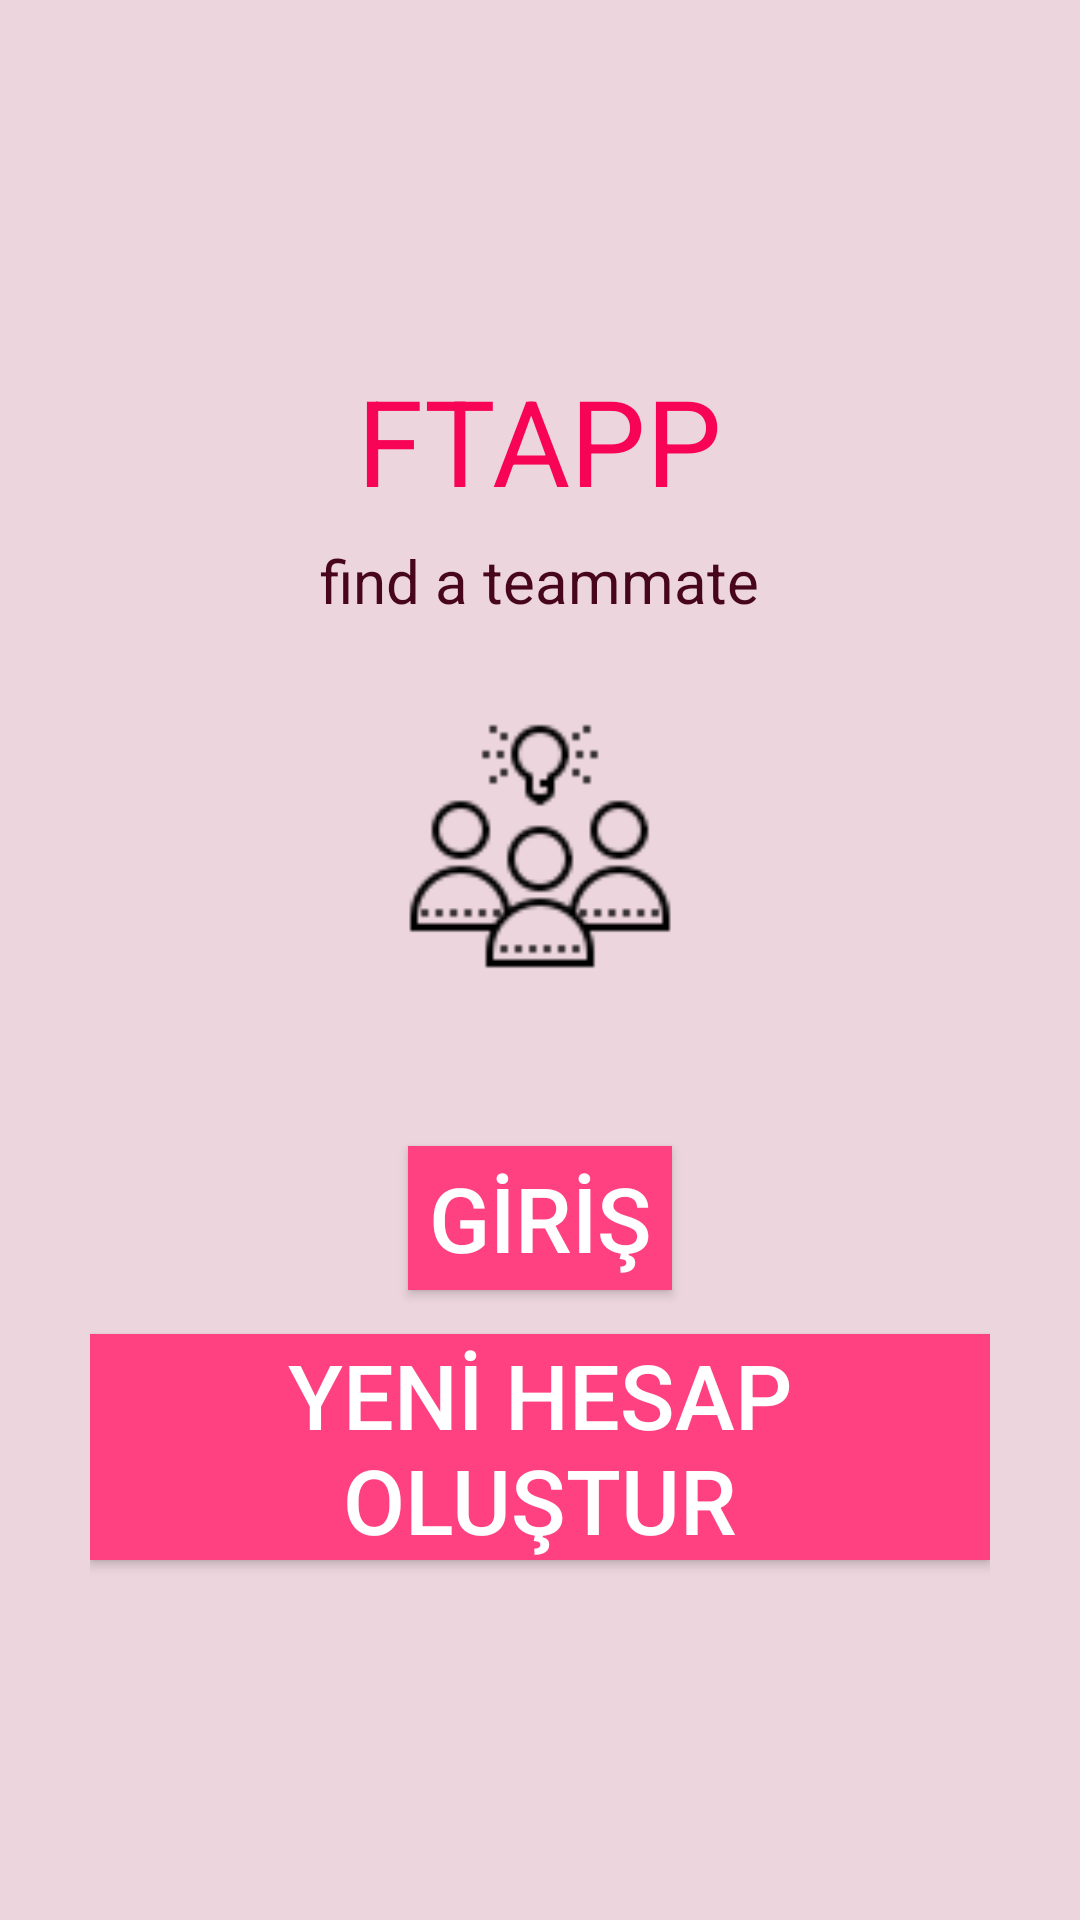

Icon click points for this 1080 × 1920 phone screenshot, format (x,y):
iconteam: (540,846)
